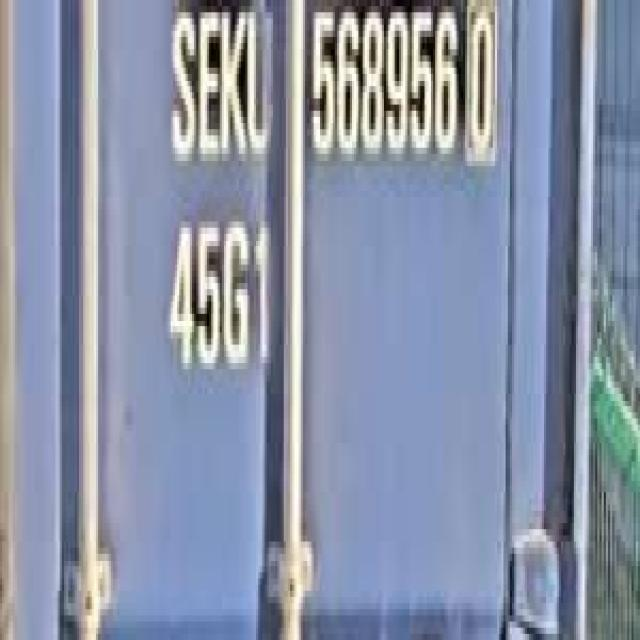dv: (463, 0, 499, 166)
owner: (160, 0, 273, 172)
serial: (307, 0, 461, 185)
size: (162, 203, 275, 388)
